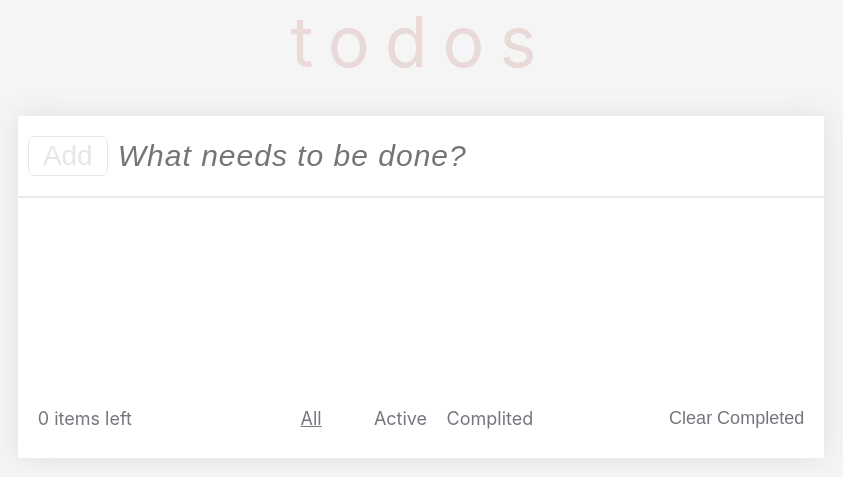
Test case: App Component › clears completed todos when the clear completed button is clicked
Type "Completed Task" into the field with placeholder "What needs to be done?". click: [466, 156]
box: [118,136,814,176]
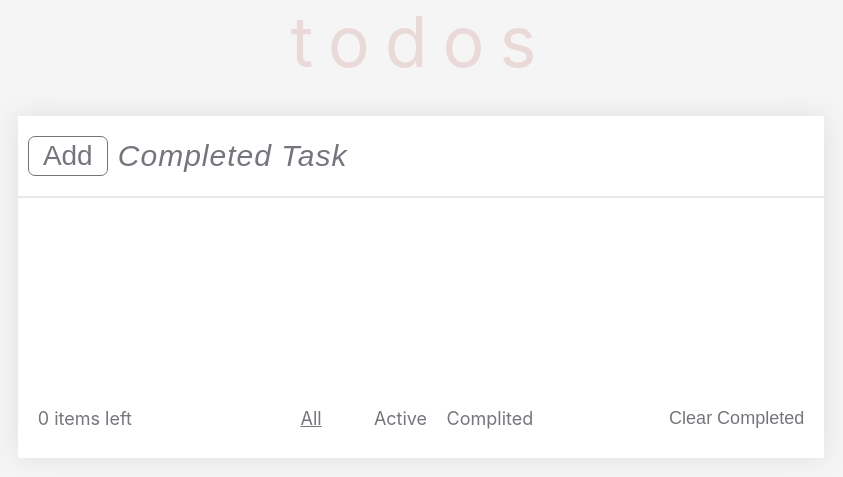
Submit the form with test id "todo-form", box [18,116,824,198]
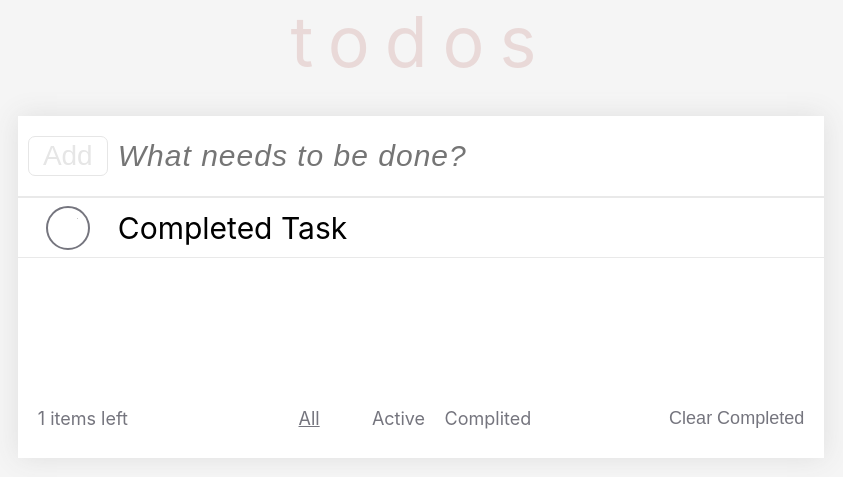
Click the checkbox. click: [68, 228]
box: [46,206,90,250]
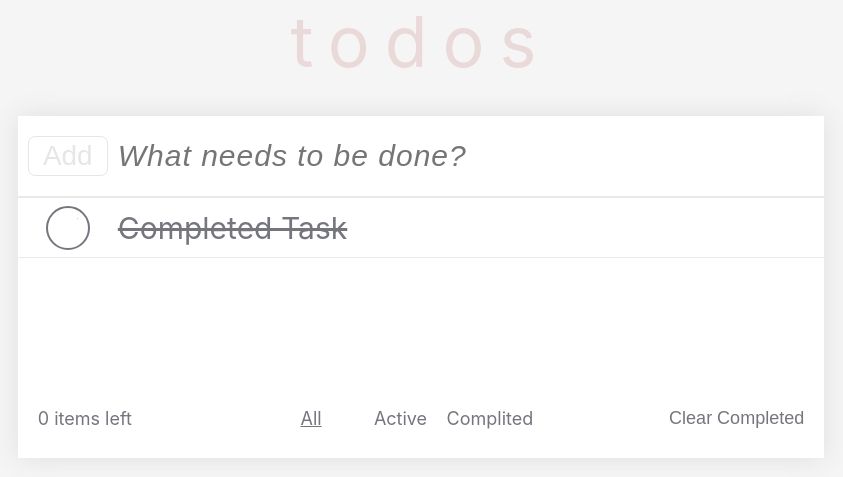
Click the button "Clear Completed". click: [737, 418]
box: [669,408,804,428]
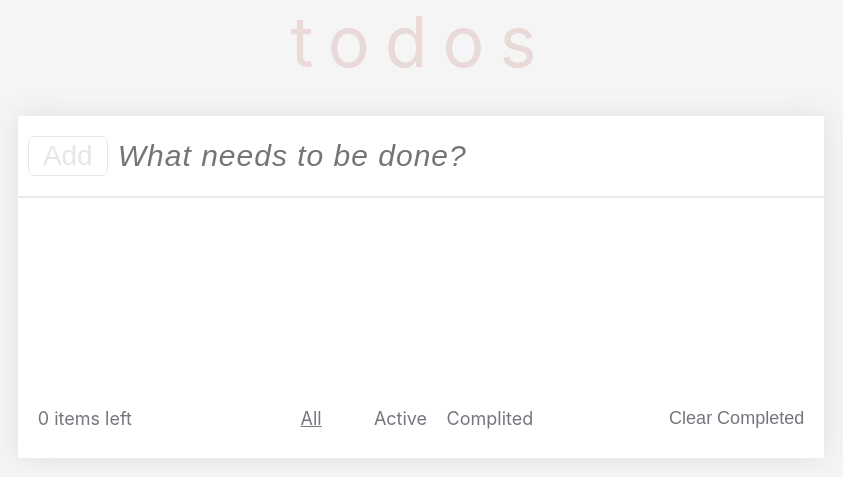
Now the heading "Completed Task" is gone
